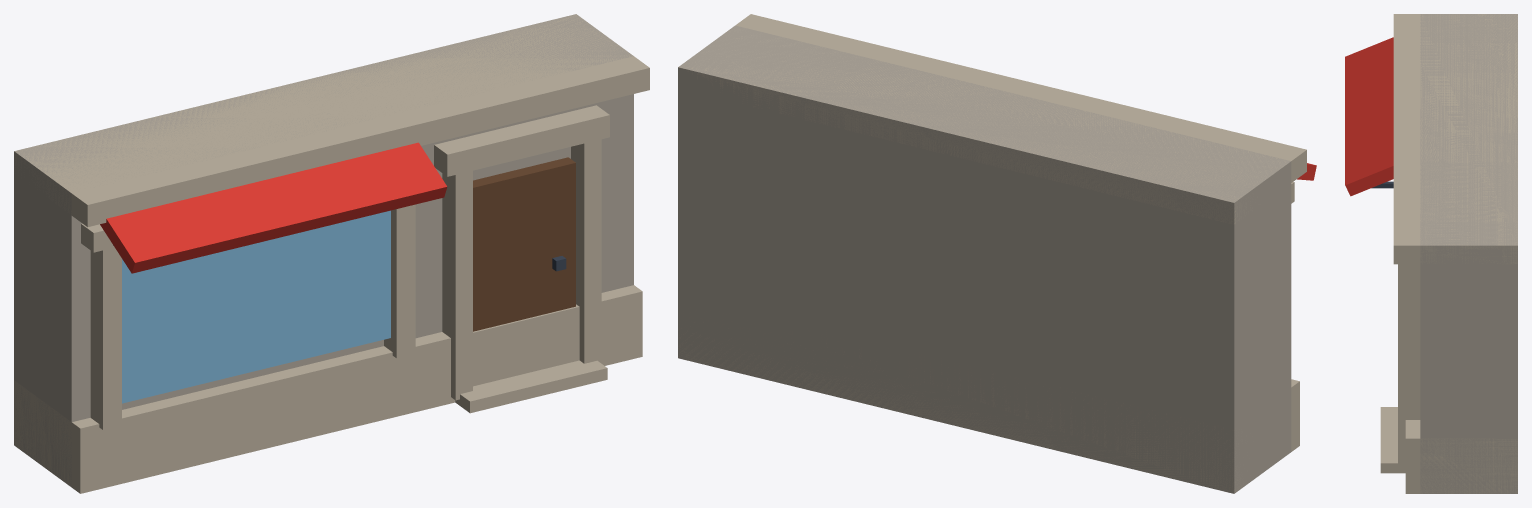
Rendered from cittaTortoraBaseA.glb.
3 views of the same model, side by side, from view 1: azimuth 30°, elevation 25°; view 2: azimuth 150°, elevation 25°; view 3: azimuth 270°, elevation 25° (orthographic). The views are drawn at different scales.
Visible parts, largest first — view 1: cittaTortoraBaseA_stone, cittaTortoraBaseA_cittaTortora, cittaTortoraBaseA_glass, cittaTortoraBaseA_red, cittaTortoraBaseA_bark; view 2: cittaTortoraBaseA_cittaTortora, cittaTortoraBaseA_stone; view 3: cittaTortoraBaseA_cittaTortora, cittaTortoraBaseA_stone, cittaTortoraBaseA_red.
Boxes of the visible parts, x1,y1,x2,y2 form: cittaTortoraBaseA_stone: (14,14,649,493); cittaTortoraBaseA_cittaTortora: (14,14,633,485); cittaTortoraBaseA_glass: (122,210,390,403); cittaTortoraBaseA_red: (100,142,447,273); cittaTortoraBaseA_bark: (473,157,575,331); cittaTortoraBaseA_cittaTortora: (678,25,1291,493); cittaTortoraBaseA_stone: (678,14,1306,492); cittaTortoraBaseA_cittaTortora: (1420,14,1517,493); cittaTortoraBaseA_stone: (1380,14,1517,493); cittaTortoraBaseA_red: (1345,37,1393,196).
Size of the model in its own units: 9 by 4.5 by 2.84.
